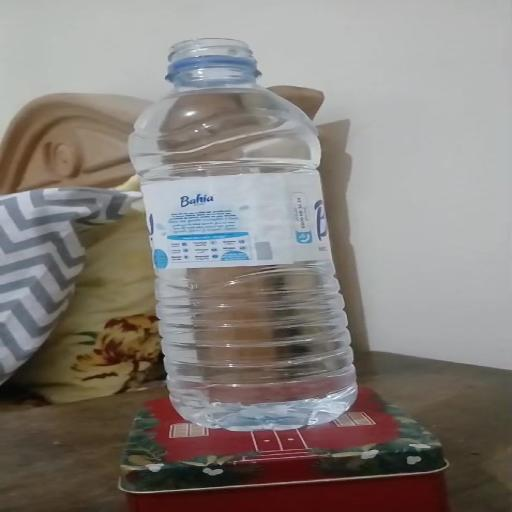bouteille non conformite: (152, 23, 295, 125)
